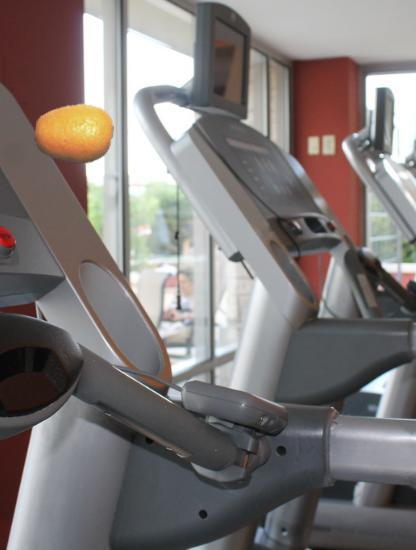Kumquats: (35, 94, 114, 173)
